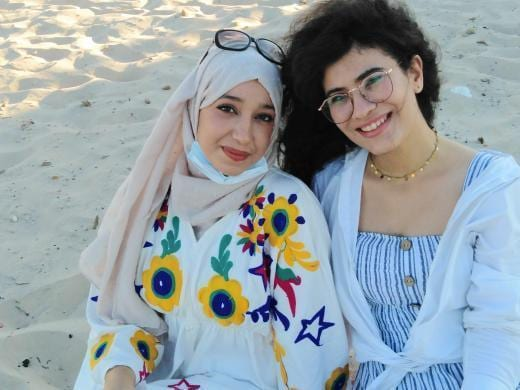mask_weared_incorrect: (187, 86, 278, 187)
without_mask: (326, 66, 417, 150)
